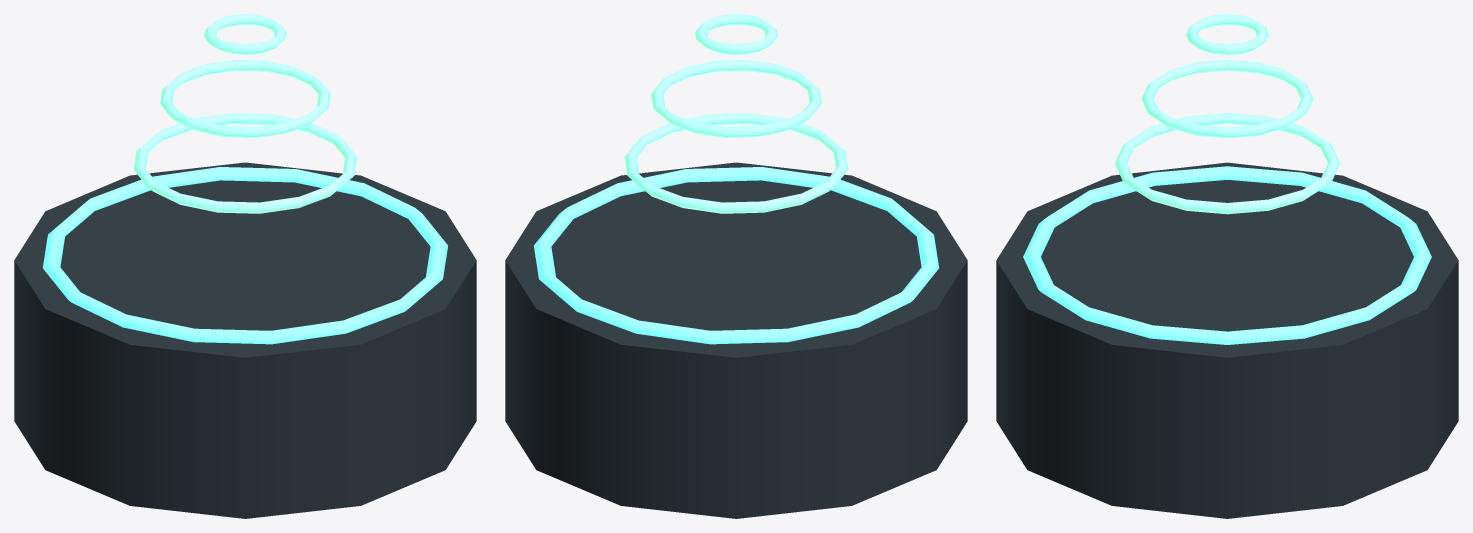
Rendered from hologram.lod2.glb.
3 renders of one model, left to right at view 1: azimuth 30°, elevation 25°; view 2: azimuth 150°, elevation 25°; view 3: azimuth 270°, elevation 25°, orthographic.
Visible parts, largest first — view 1: structure, display; view 2: structure, display; view 3: structure, display.
Boxes of the visible parts, x1,y1,x2,y2 form: structure: (14,162,476,518); display: (133,14,357,213); structure: (505,162,967,518); display: (624,14,848,213); structure: (996,162,1458,518); display: (1114,14,1340,214).
Bounding box in the file's own units: 2.6 × 2.44 × 2.6.
